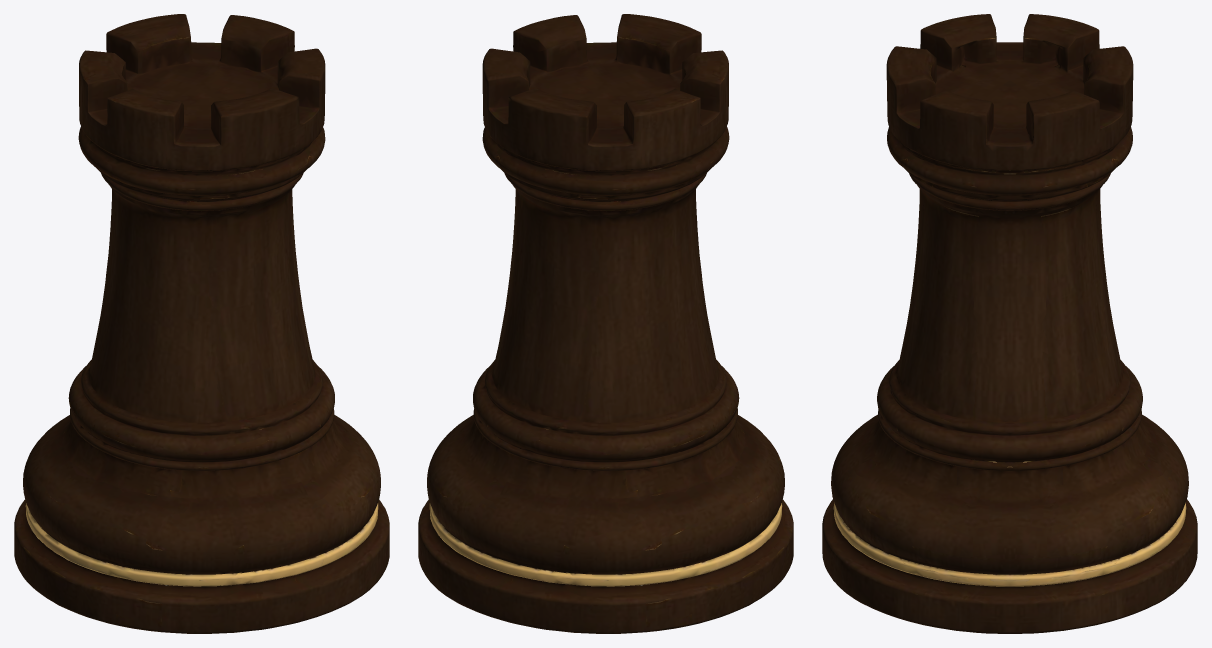
The model's file is 10_rook_dark.glb.
3 views of the same model, side by side, from view 1: azimuth 30°, elevation 25°; view 2: azimuth 150°, elevation 25°; view 3: azimuth 270°, elevation 25° (orthographic).
Visible parts, largest first — view 1: world; view 2: world; view 3: world.
Boxes of the visible parts, x1=… form: world: x1=14, y1=14, x2=389, y2=633; world: x1=418, y1=14, x2=793, y2=633; world: x1=822, y1=14, x2=1197, y2=633.
Bounding box in the file's own units: 0.6932 × 1 × 0.6932.
Materials: 1 (1 with a texture image).
